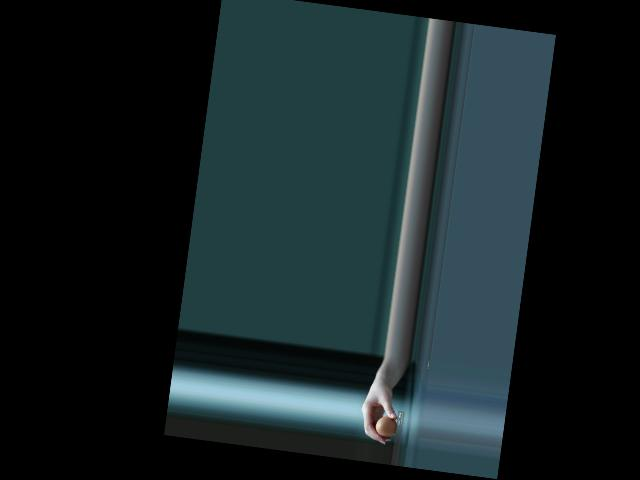egg: (374, 415, 398, 438)
